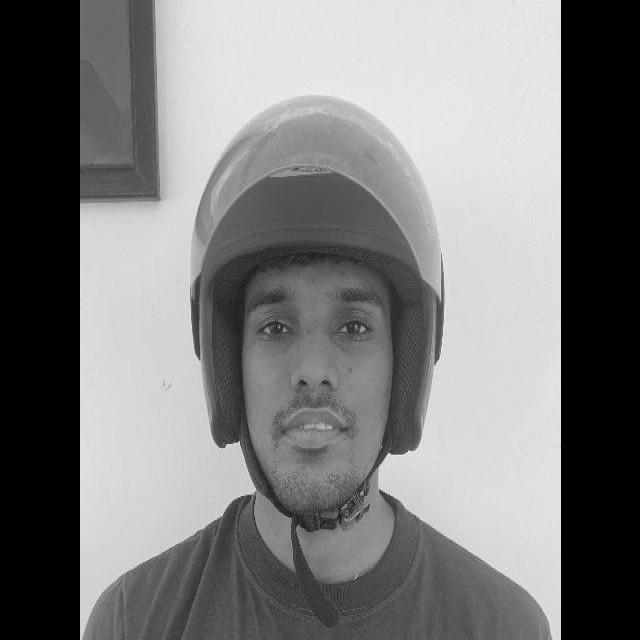5_casco: (188, 92, 444, 456)
